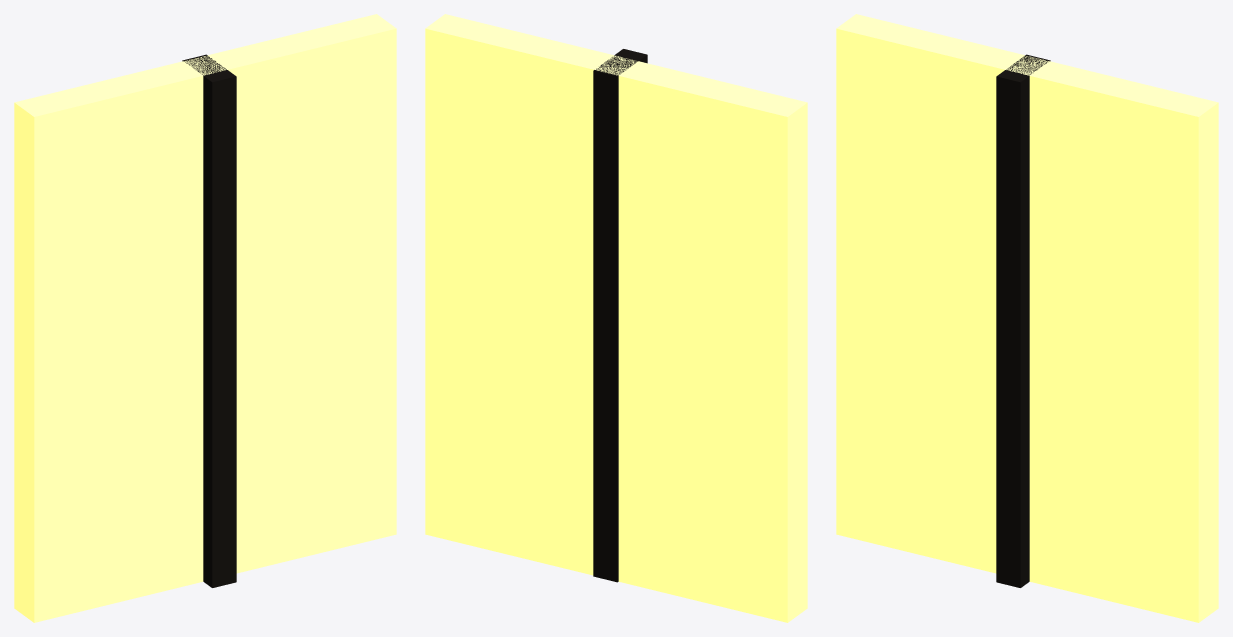
Rendered from pane_hall.glb.
The picture shows the model from 3 angles, left to right: view 1: azimuth 30°, elevation 25°; view 2: azimuth 150°, elevation 25°; view 3: azimuth 330°, elevation 25°; orthographic projection.
Parts seen in each view (by area): view 1: pane_hall; view 2: pane_hall; view 3: pane_hall.
Boxes of the visible parts, x1,y1,x2,y2 form: pane_hall: (14, 14, 396, 622); pane_hall: (425, 14, 807, 622); pane_hall: (836, 14, 1218, 622).
Bounding box in the file's own units: 1.05 × 1.4 × 0.15.
